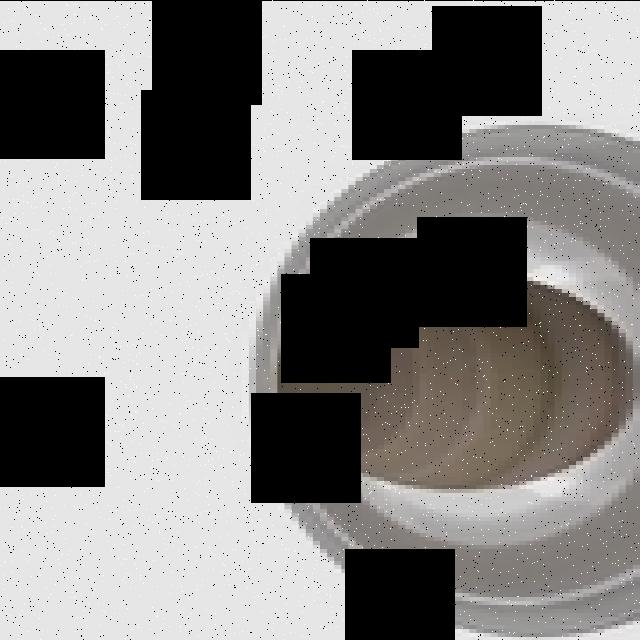Saturn: (242, 116, 640, 640)
